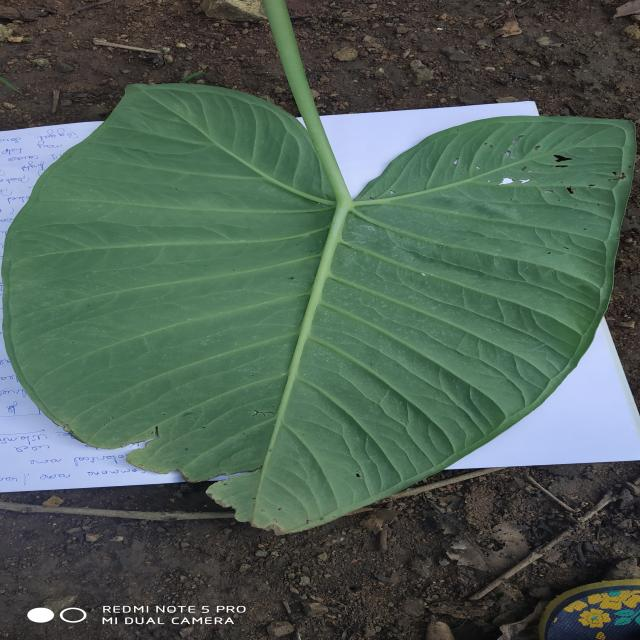taro: (4, 0, 636, 532)
